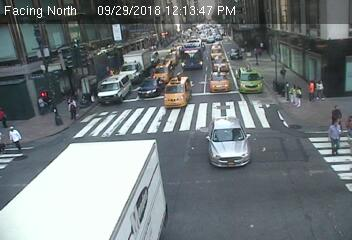car: (1, 139, 166, 240), (205, 117, 254, 168), (119, 49, 153, 82), (96, 74, 131, 103), (165, 73, 191, 109), (234, 64, 264, 92), (179, 39, 204, 69), (137, 77, 162, 99), (209, 70, 232, 93), (153, 62, 172, 83)
